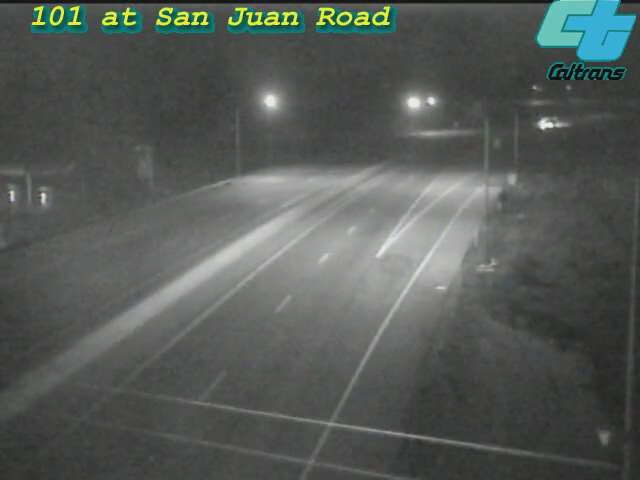vehicle: (530, 97, 580, 147), (517, 100, 567, 150)
